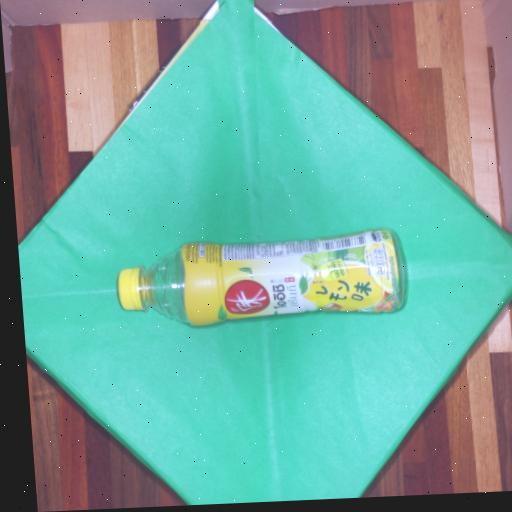bottle: (92, 212, 429, 346)
